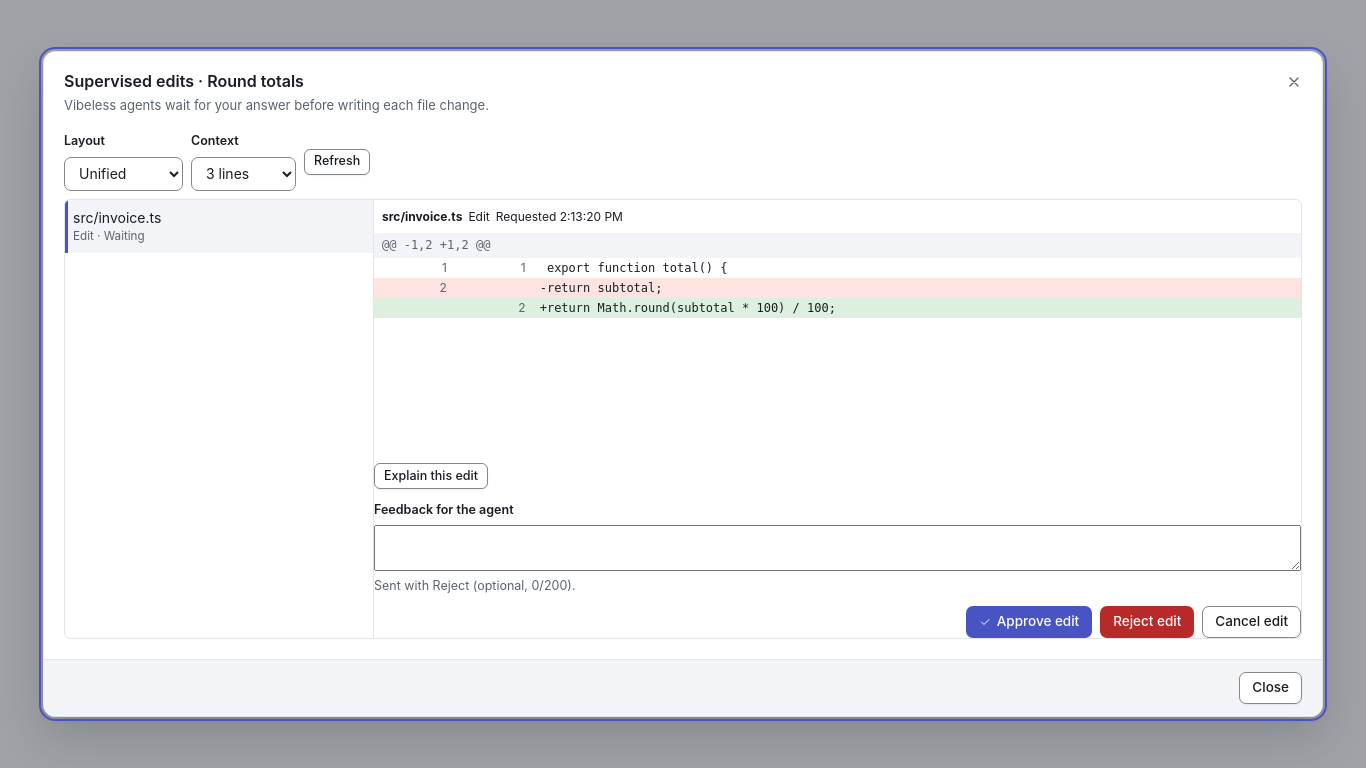
Test case: protects feedback on Close while a new context query is loading
expect the text "-return subtotal;" is shown: met, box [540,281,662,295]
Type "keep draft" into the text box labelled "Feedback for the agent" at [838, 548], box [374,525,1301,572]
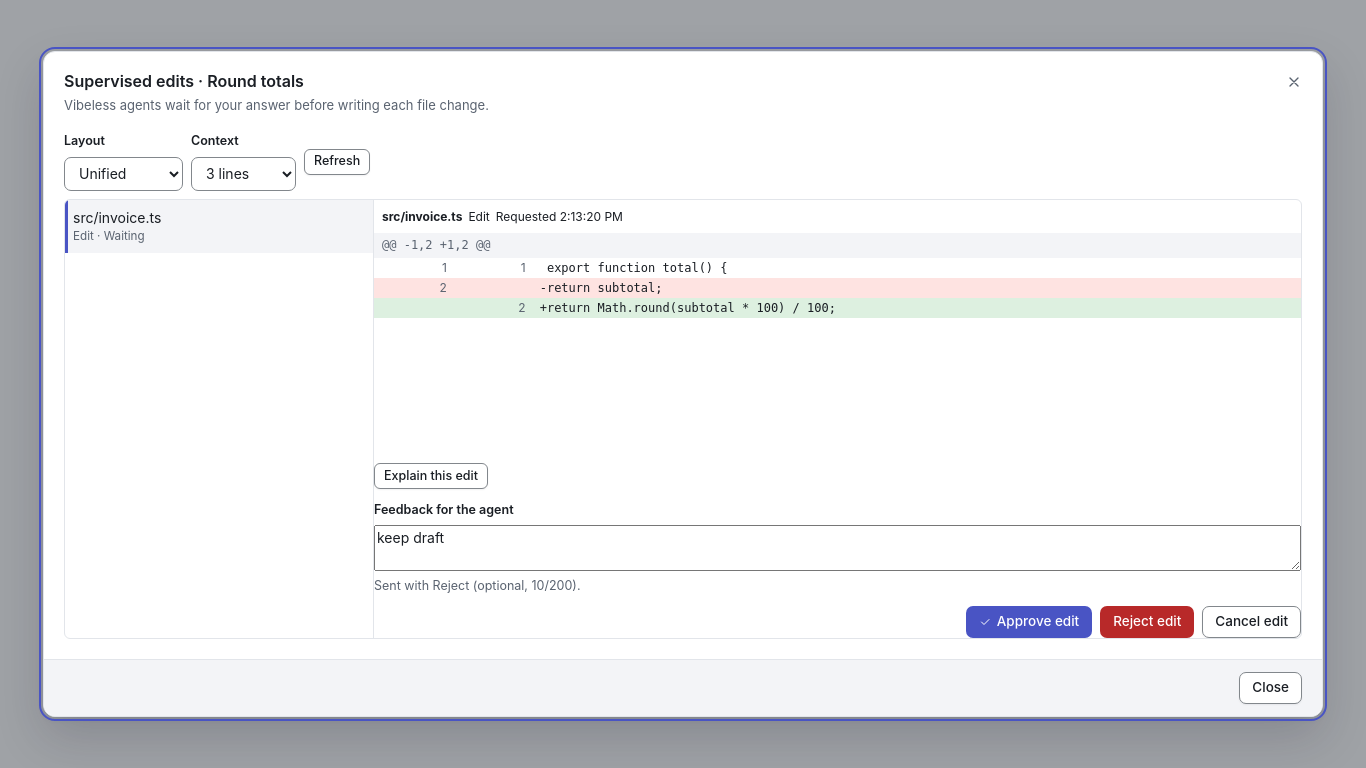
Select "10 lines" in the dropdown labelled "Context" at [244, 174], box [191,157,296,191]
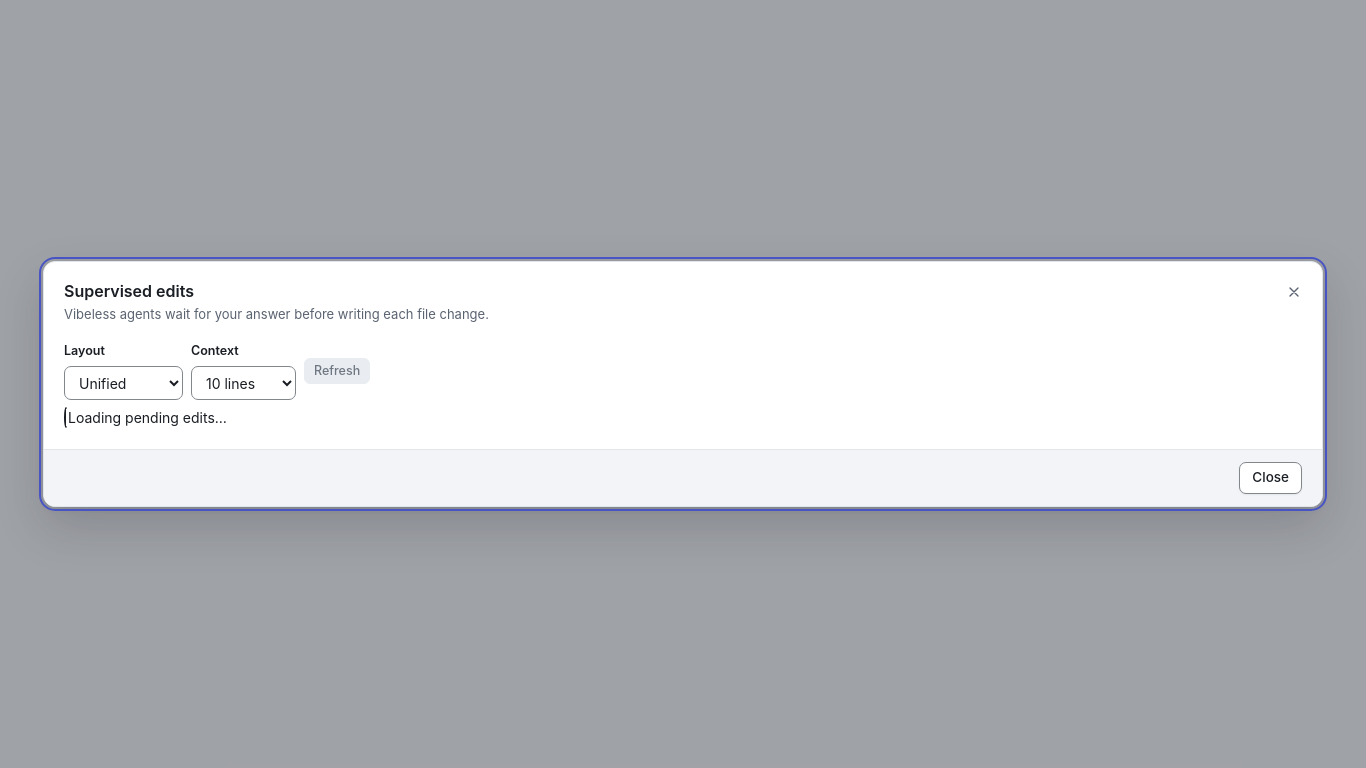
expect the text "Loading pending edits…" is shown: met, box [64,407,227,428]
Click the button named "Close" at [1294, 292], box [1278,276,1310,308]
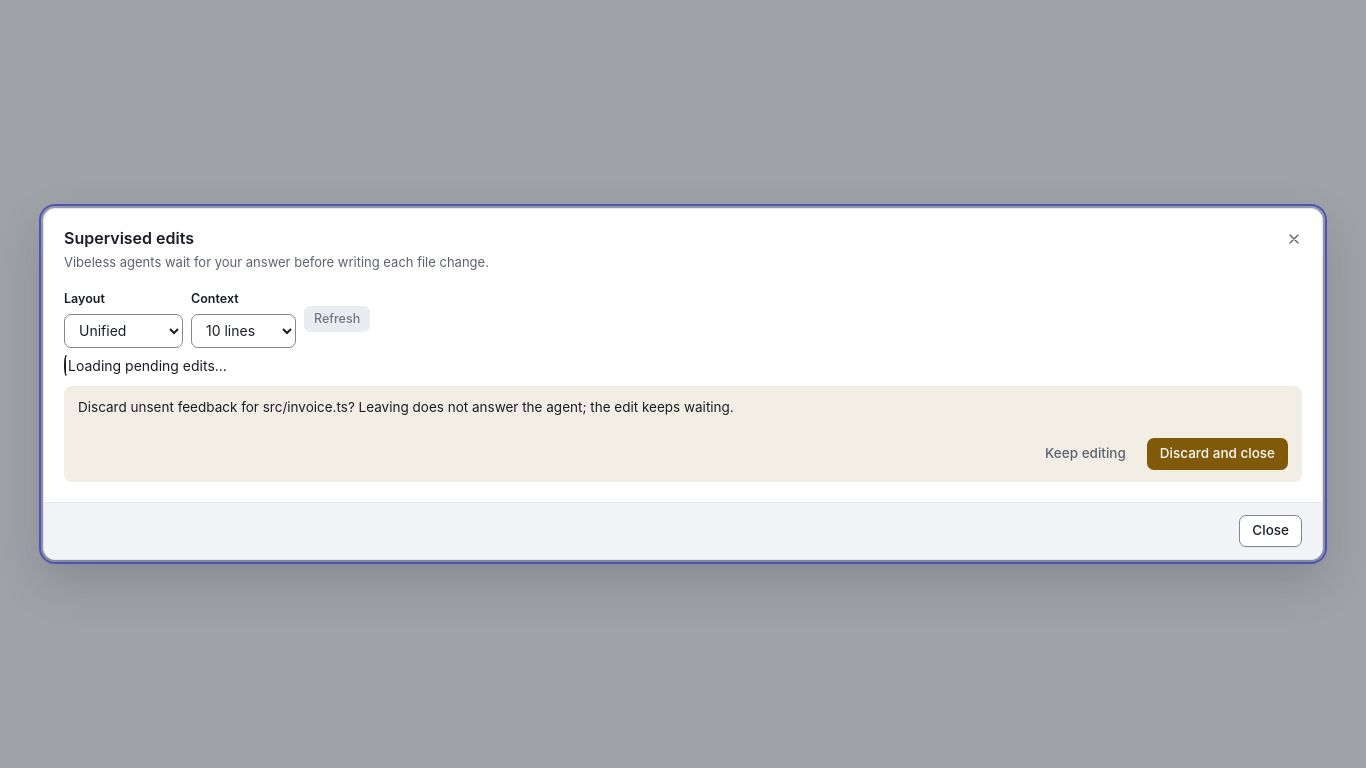
expect the dialog "Discard unsent feedback" shows "src/invoice.ts": met, box [263,399,348,415]
Click the button "Keep editing" at [1085, 454], box [1032,438,1139,470]
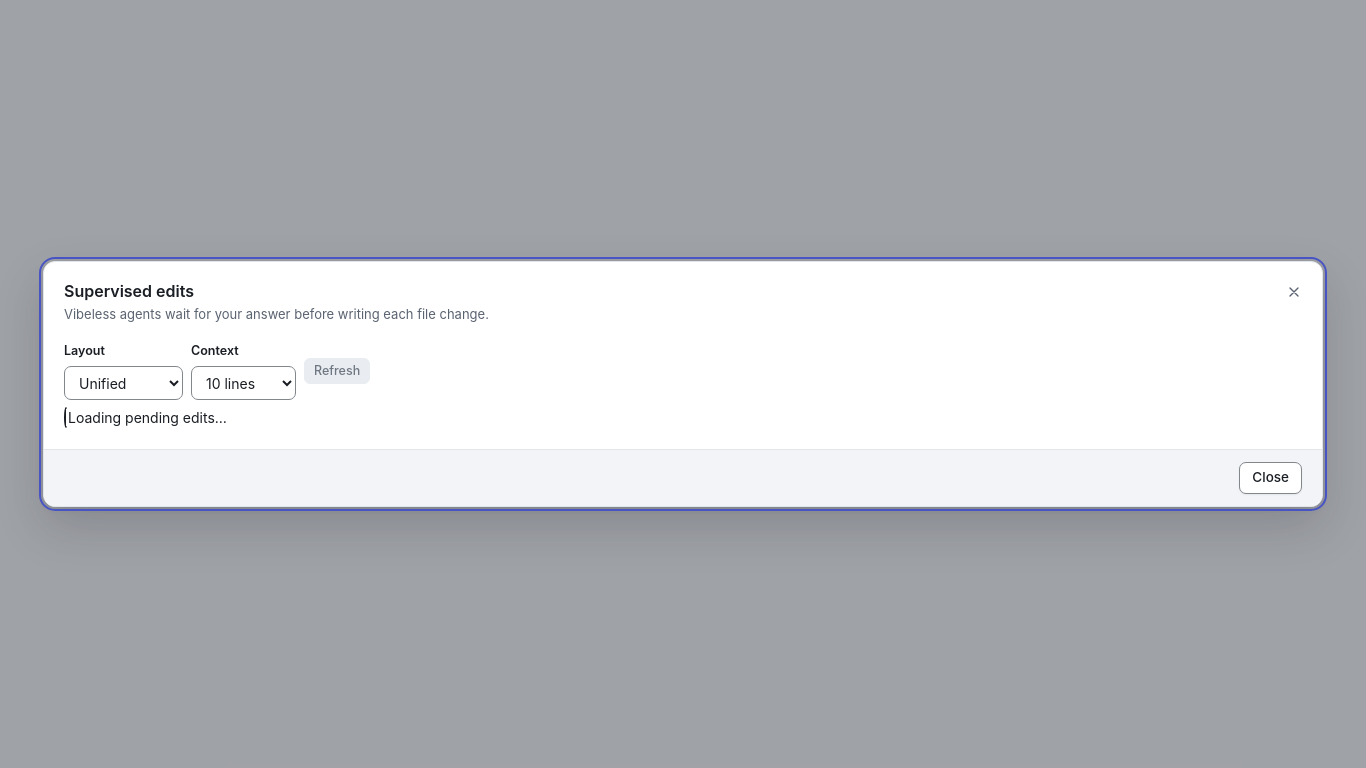
Select "3 lines" in the dropdown labelled "Context" at [244, 383], box [191,366,296,400]
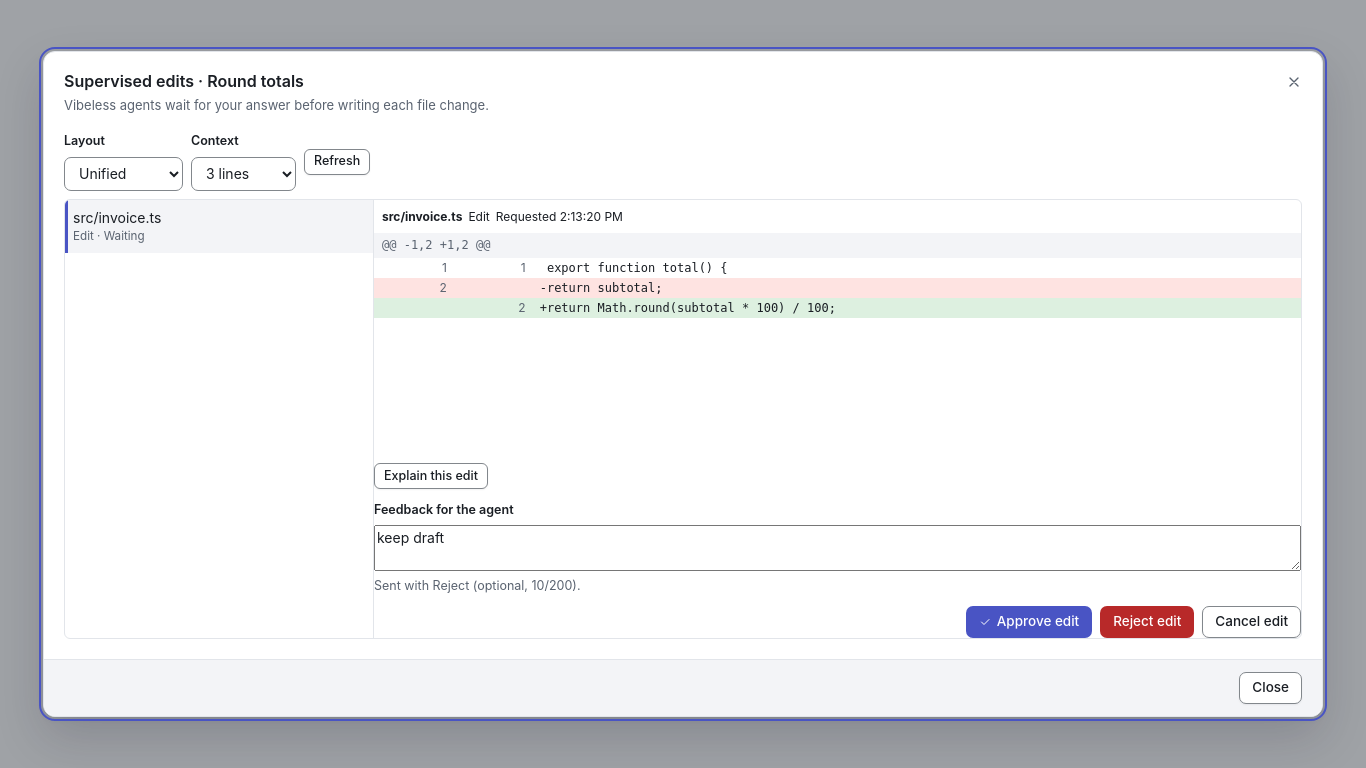
expect the text box labelled "Feedback for the agent" holds "keep draft": met, box [374,525,1301,572]
